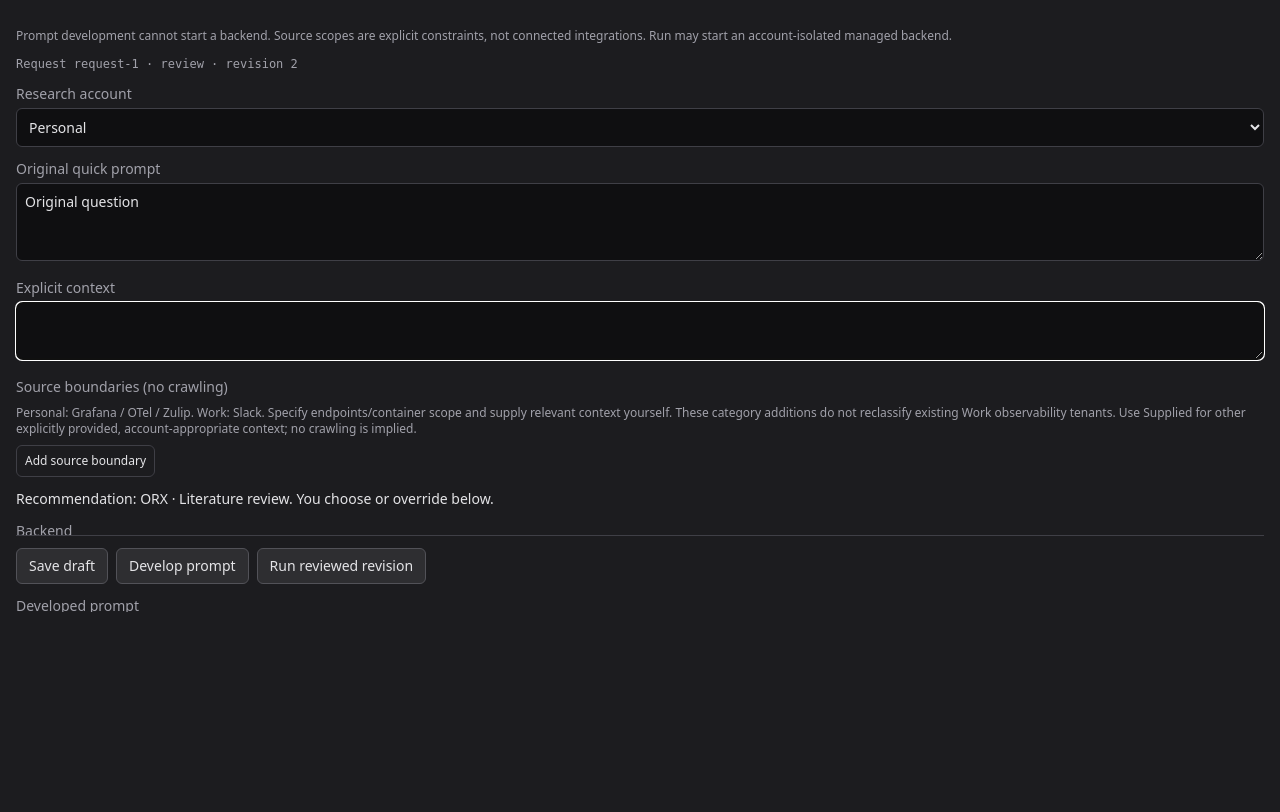
Test: blocks ambiguous run resubmission and refreshes the exact existing identity
This screenshot has width=1280, height=812.
Click the button "Run reviewed revision": (341, 566) 256,548 -> 426,584
(page scrolled)
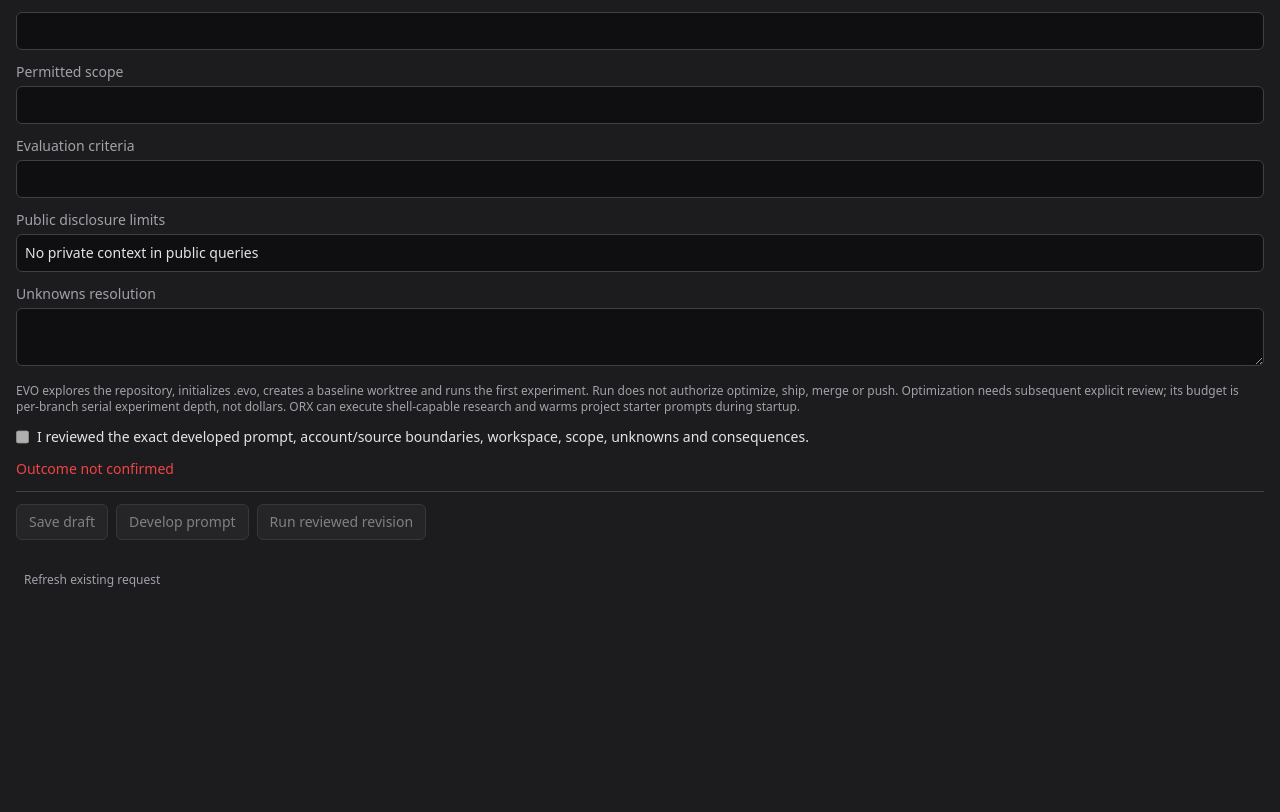
Result: the message "Outcome not confirmed" is shown at 16,459 -> 174,478
Result: the button "Run reviewed revision" is disabled at 256,504 -> 426,540
Click the button "Refresh existing request": (92, 580) 16,564 -> 168,596
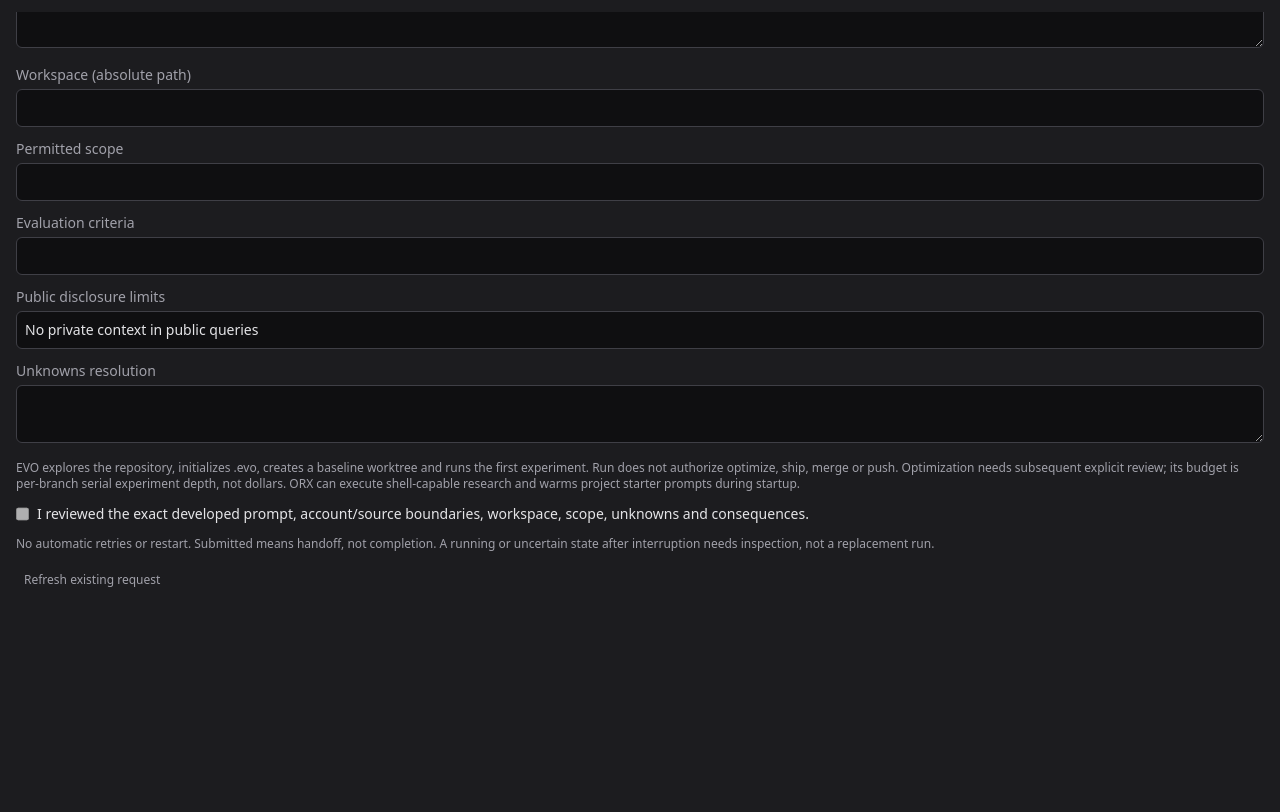
Result: the button "Run reviewed revision" is gone
